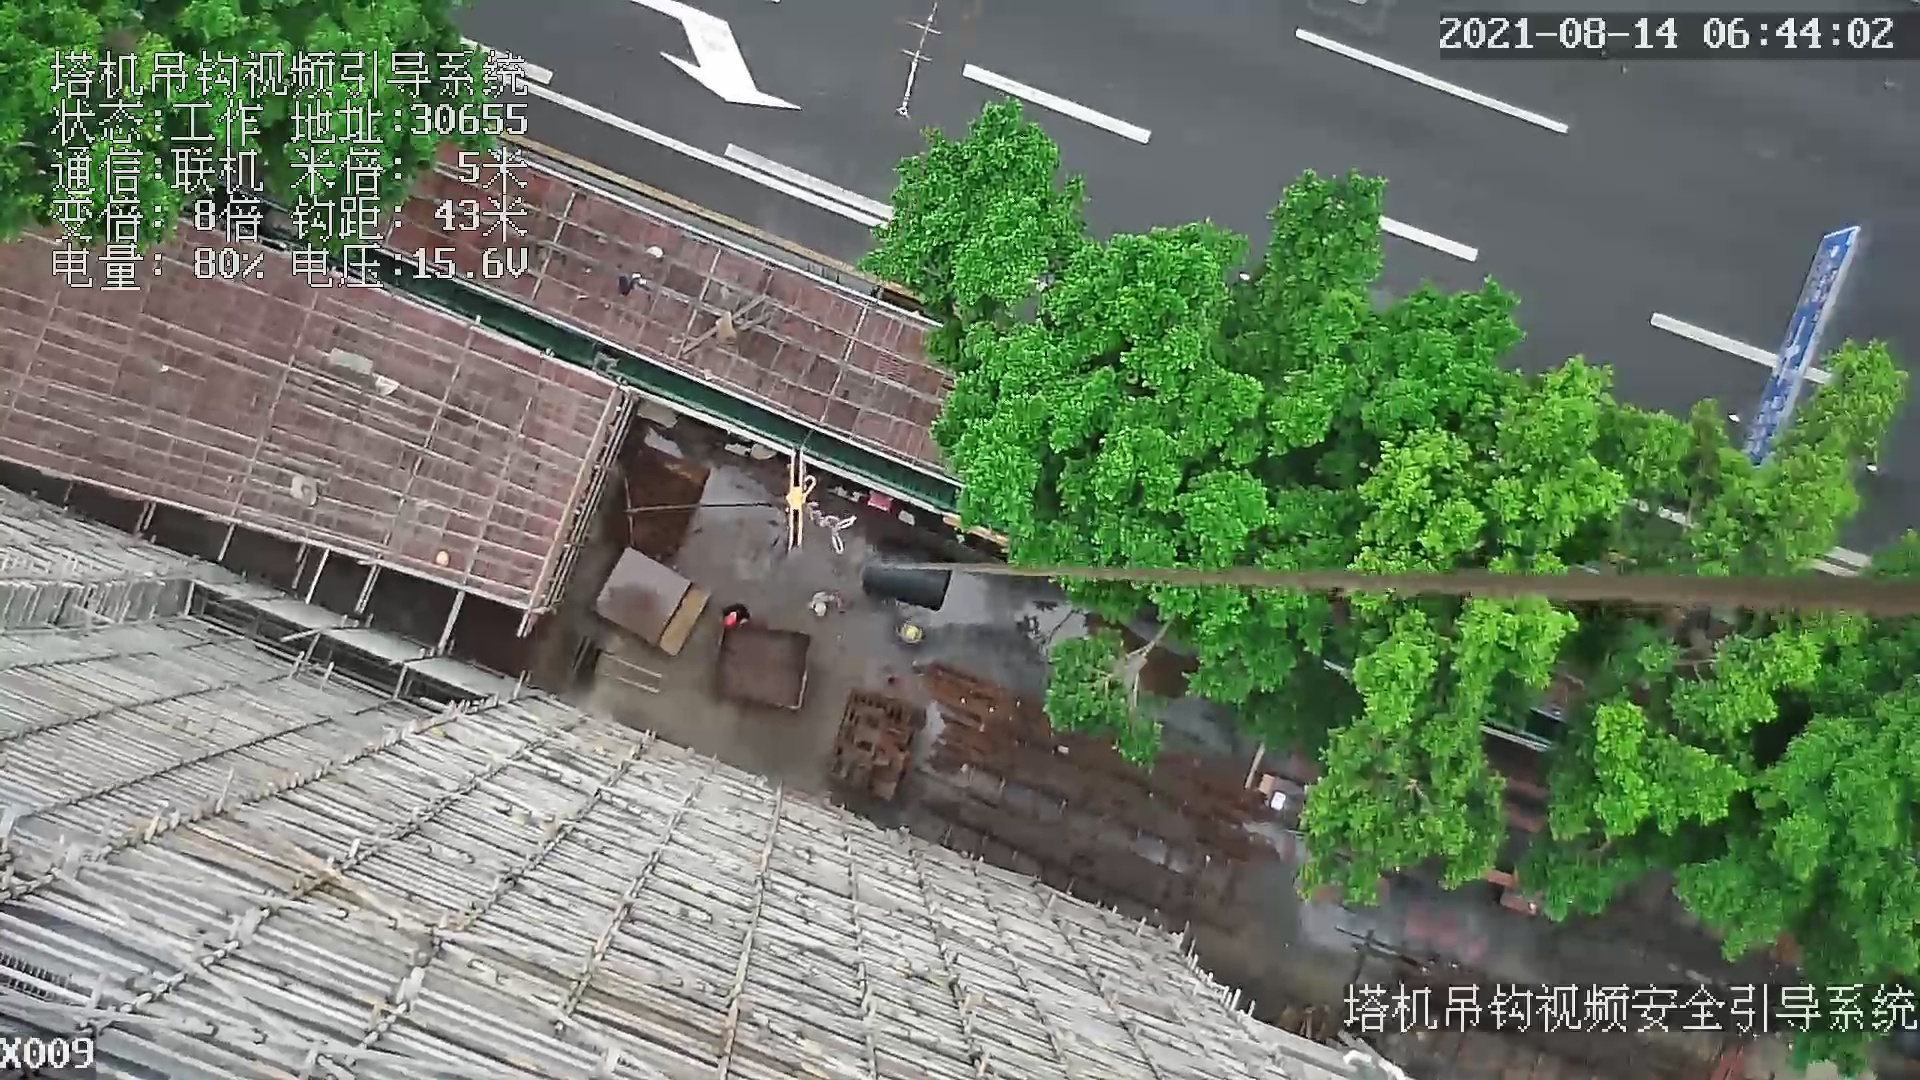helmet: (433, 550, 452, 566), (723, 615, 735, 627), (907, 625, 916, 638)
hook: (773, 441, 823, 551)
person: (796, 589, 847, 617), (712, 600, 750, 631), (895, 617, 928, 650)
